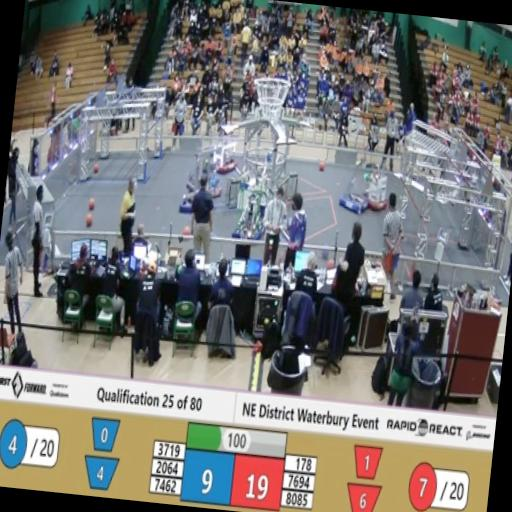robot: (229, 184, 273, 248), (182, 142, 228, 202), (179, 147, 214, 217), (359, 158, 393, 214), (336, 167, 374, 217), (208, 131, 244, 178)
